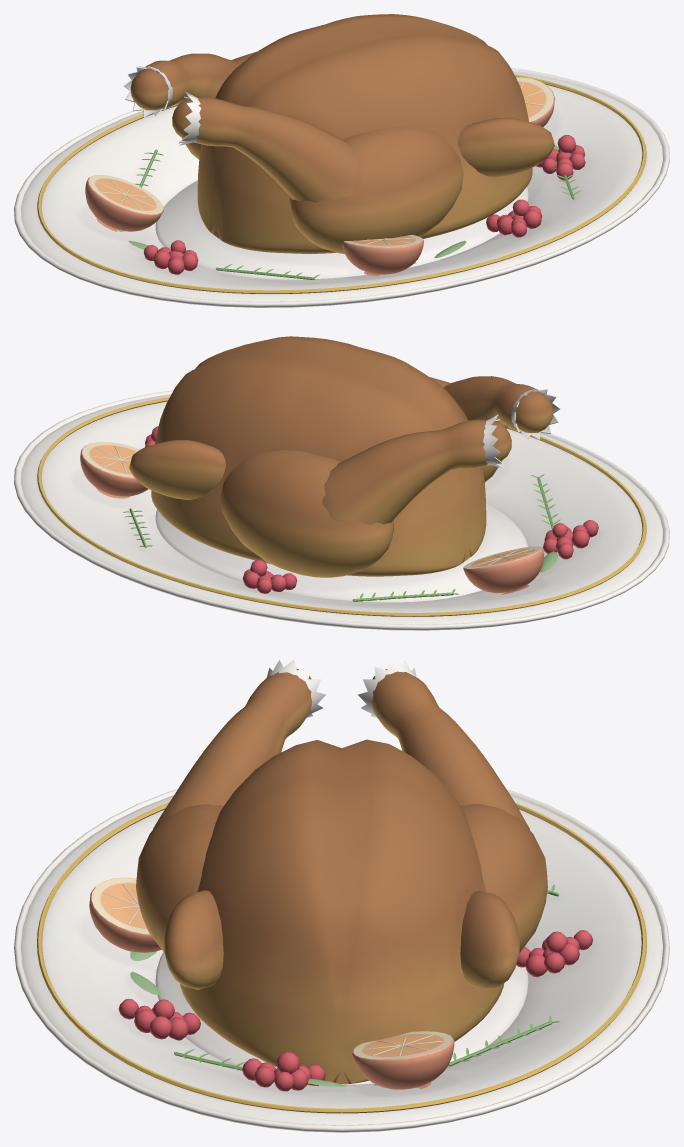
Rendered from thanksgiving-turkey.glb.
The picture shows the model from 3 angles, top to bottom: view 1: azimuth 30°, elevation 25°; view 2: azimuth 150°, elevation 25°; view 3: azimuth 270°, elevation 25°; orthographic projection. The views are drawn at different scales.
Visible parts, largest first — view 1: platter, breast, thighL, garnish, drumstickL, rim, wingL, drumstickR, frillL, frillR; view 2: platter, breast, thighR, drumstickR, garnish, rim, wingR, drumstickL, frillR, frillL; view 3: breast, platter, garnish, drumstickL, drumstickR, thighL, thighR, rim, wingL, wingR, frillL, frillR.
Part boxes in pixels (x1,y1,x2,y2): platter: [14, 68, 669, 307]; breast: [197, 14, 532, 253]; thighL: [289, 126, 463, 253]; garnish: [85, 77, 585, 279]; drumstickL: [172, 97, 361, 202]; rim: [37, 74, 646, 293]; wingL: [458, 117, 554, 177]; drumstickR: [130, 53, 239, 110]; frillL: [179, 92, 201, 145]; frillR: [123, 66, 172, 117]; platter: [14, 390, 669, 630]; breast: [151, 336, 486, 576]; thighR: [220, 450, 393, 577]; drumstickR: [322, 419, 511, 524]; garnish: [80, 426, 598, 601]; rim: [37, 397, 646, 616]; wingR: [129, 440, 225, 499]; drumstickL: [443, 376, 553, 432]; frillR: [483, 414, 504, 468]; frillL: [511, 388, 560, 440]; breast: [180, 739, 503, 1084]; platter: [14, 789, 669, 1132]; garnish: [89, 877, 592, 1091]; drumstickL: [153, 668, 312, 829]; drumstickR: [371, 669, 529, 829]; thighL: [136, 804, 223, 952]; thighR: [461, 803, 547, 952]; rim: [37, 802, 646, 1113]; wingL: [164, 890, 223, 989]; wingR: [460, 891, 519, 989]; frillL: [266, 659, 325, 717]; frillR: [358, 659, 416, 717].
Size of the model in its own units: 0.602 by 0.1713 by 0.4575.
1 material, 1 textured.
